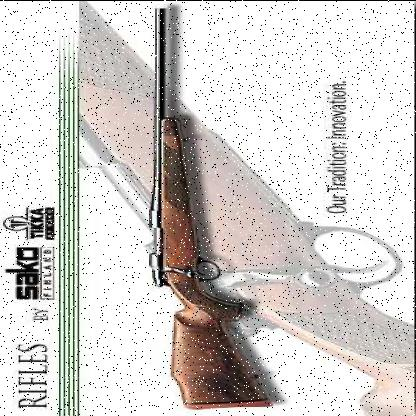rifle: (127, 2, 272, 408)
